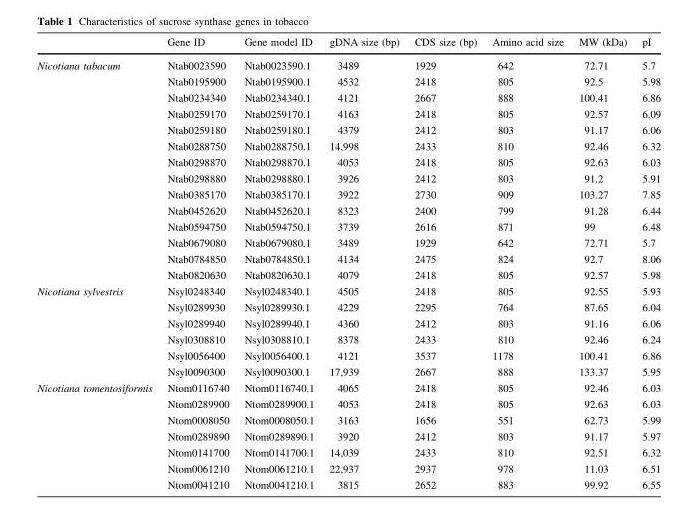table: (36, 36, 660, 489)
table column: (36, 36, 159, 489), (483, 36, 570, 489), (236, 36, 321, 489), (321, 36, 406, 489), (159, 36, 236, 489), (406, 36, 483, 489), (570, 36, 633, 489), (633, 36, 660, 489)
table column header: (36, 36, 660, 53)
table row: (36, 53, 660, 73), (36, 36, 660, 53), (36, 89, 660, 106), (36, 218, 660, 235), (36, 347, 660, 364), (36, 73, 660, 89), (36, 106, 660, 122), (36, 122, 660, 138), (36, 138, 660, 154), (36, 154, 660, 170), (36, 170, 660, 186), (36, 186, 660, 202), (36, 202, 660, 218), (36, 235, 660, 251), (36, 251, 660, 267), (36, 267, 660, 283), (36, 283, 660, 299), (36, 299, 660, 315), (36, 315, 660, 331), (36, 331, 660, 347), (36, 364, 660, 380), (36, 380, 660, 396), (36, 396, 660, 412), (36, 412, 660, 428), (36, 428, 660, 444), (36, 444, 660, 460), (36, 460, 660, 476), (36, 476, 660, 489)
table spanning cell: (36, 53, 159, 283), (36, 380, 159, 489), (36, 283, 159, 380)
